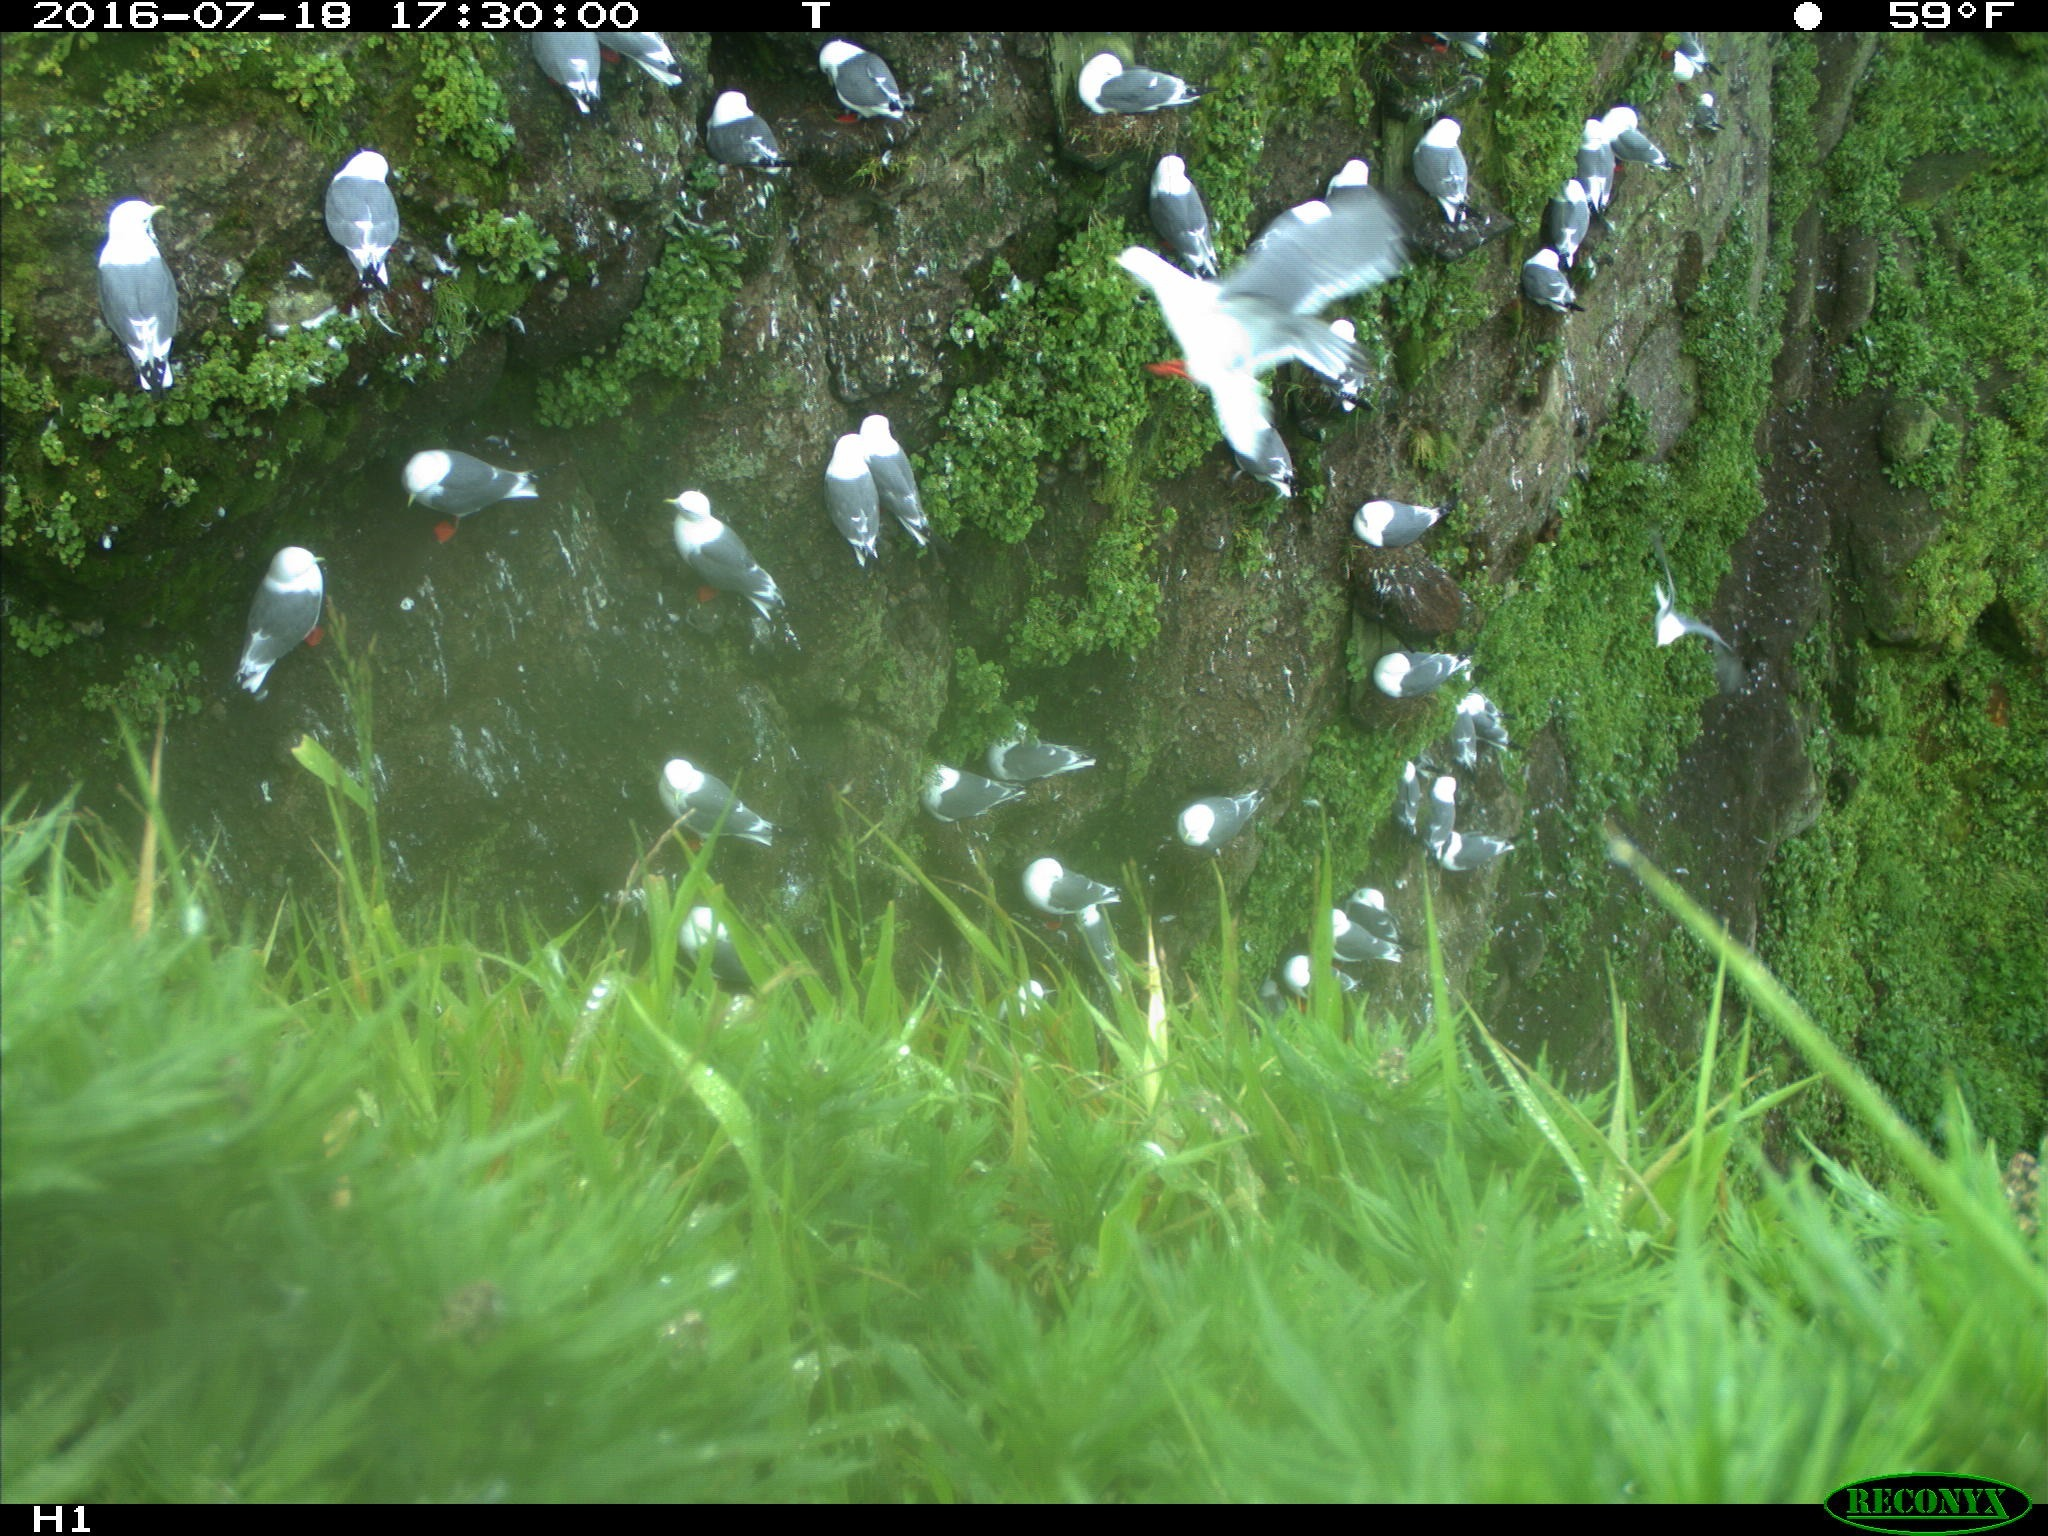Kittiwake: (1097, 173, 1463, 515), (71, 192, 223, 405), (640, 458, 792, 634), (219, 528, 347, 712), (297, 123, 423, 305), (632, 749, 803, 866), (389, 432, 561, 544), (1625, 553, 1756, 689), (850, 394, 951, 560), (803, 35, 935, 163), (1072, 40, 1240, 139), (651, 878, 792, 976), (968, 712, 1118, 803), (698, 77, 805, 207), (910, 742, 1050, 839), (1132, 142, 1226, 279), (1400, 102, 1498, 231), (1538, 158, 1634, 284), (1293, 891, 1430, 976), (1329, 489, 1467, 571), (814, 411, 884, 576), (1411, 766, 1498, 894), (1279, 942, 1411, 1025), (1153, 783, 1285, 860), (1648, 37, 1750, 134), (526, 27, 618, 132), (1039, 900, 1159, 979), (1016, 850, 1145, 921), (1371, 632, 1485, 710), (1511, 227, 1592, 329), (1442, 674, 1532, 763), (1608, 97, 1695, 187), (1567, 102, 1630, 226), (1417, 813, 1535, 879), (598, 24, 690, 108), (1403, 31, 1526, 84), (1340, 857, 1414, 944), (1305, 144, 1390, 216), (1377, 753, 1448, 834)
